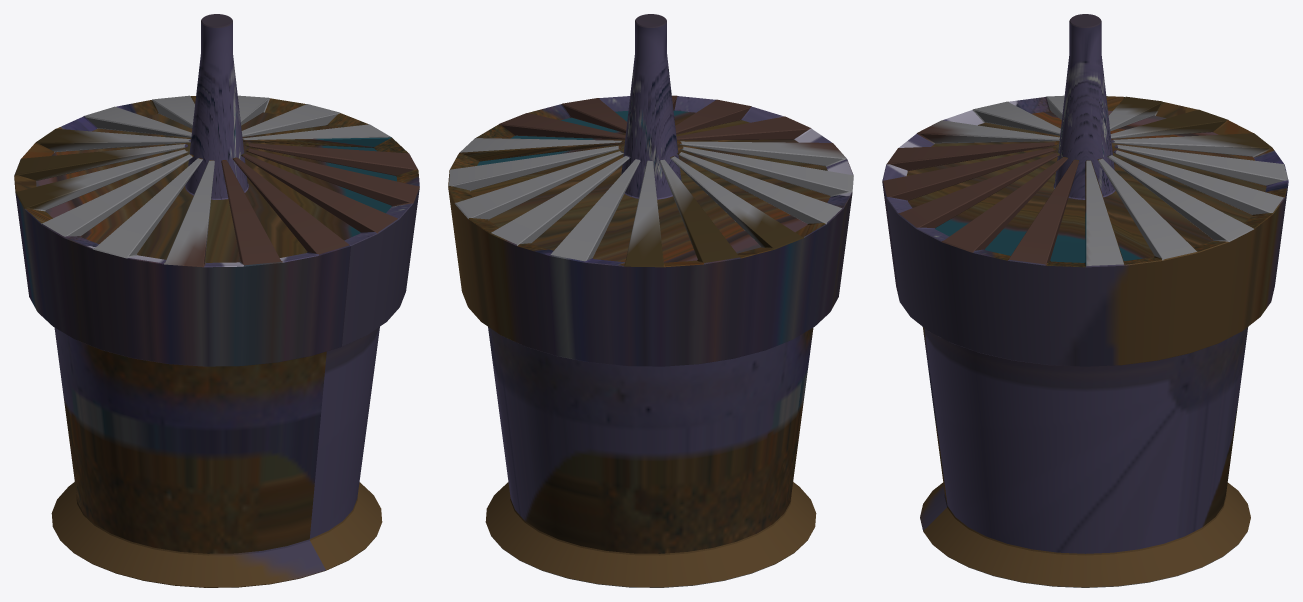
File: Elevator thungy.fbx
The picture shows the model from 3 angles, left to right: view 1: azimuth 30°, elevation 25°; view 2: azimuth 150°, elevation 25°; view 3: azimuth 270°, elevation 25°; orthographic projection.
Parts seen in each view (by area): view 1: Cylinder; view 2: Cylinder; view 3: Cylinder.
Boxes of the visible parts, left/top/right/bottom form: Cylinder: left=14, top=14, right=419, bottom=587; Cylinder: left=448, top=14, right=853, bottom=587; Cylinder: left=882, top=14, right=1288, bottom=587.
Size of the model in its own units: 1060 by 1431 by 1060.
